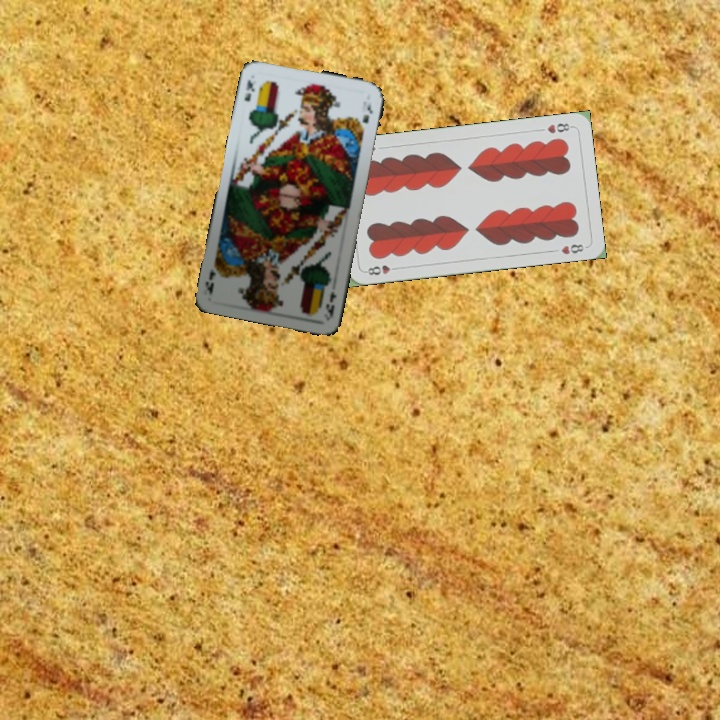EK: (322, 287, 339, 321), (240, 76, 258, 104)
H8: (361, 261, 402, 277), (543, 119, 575, 136)
